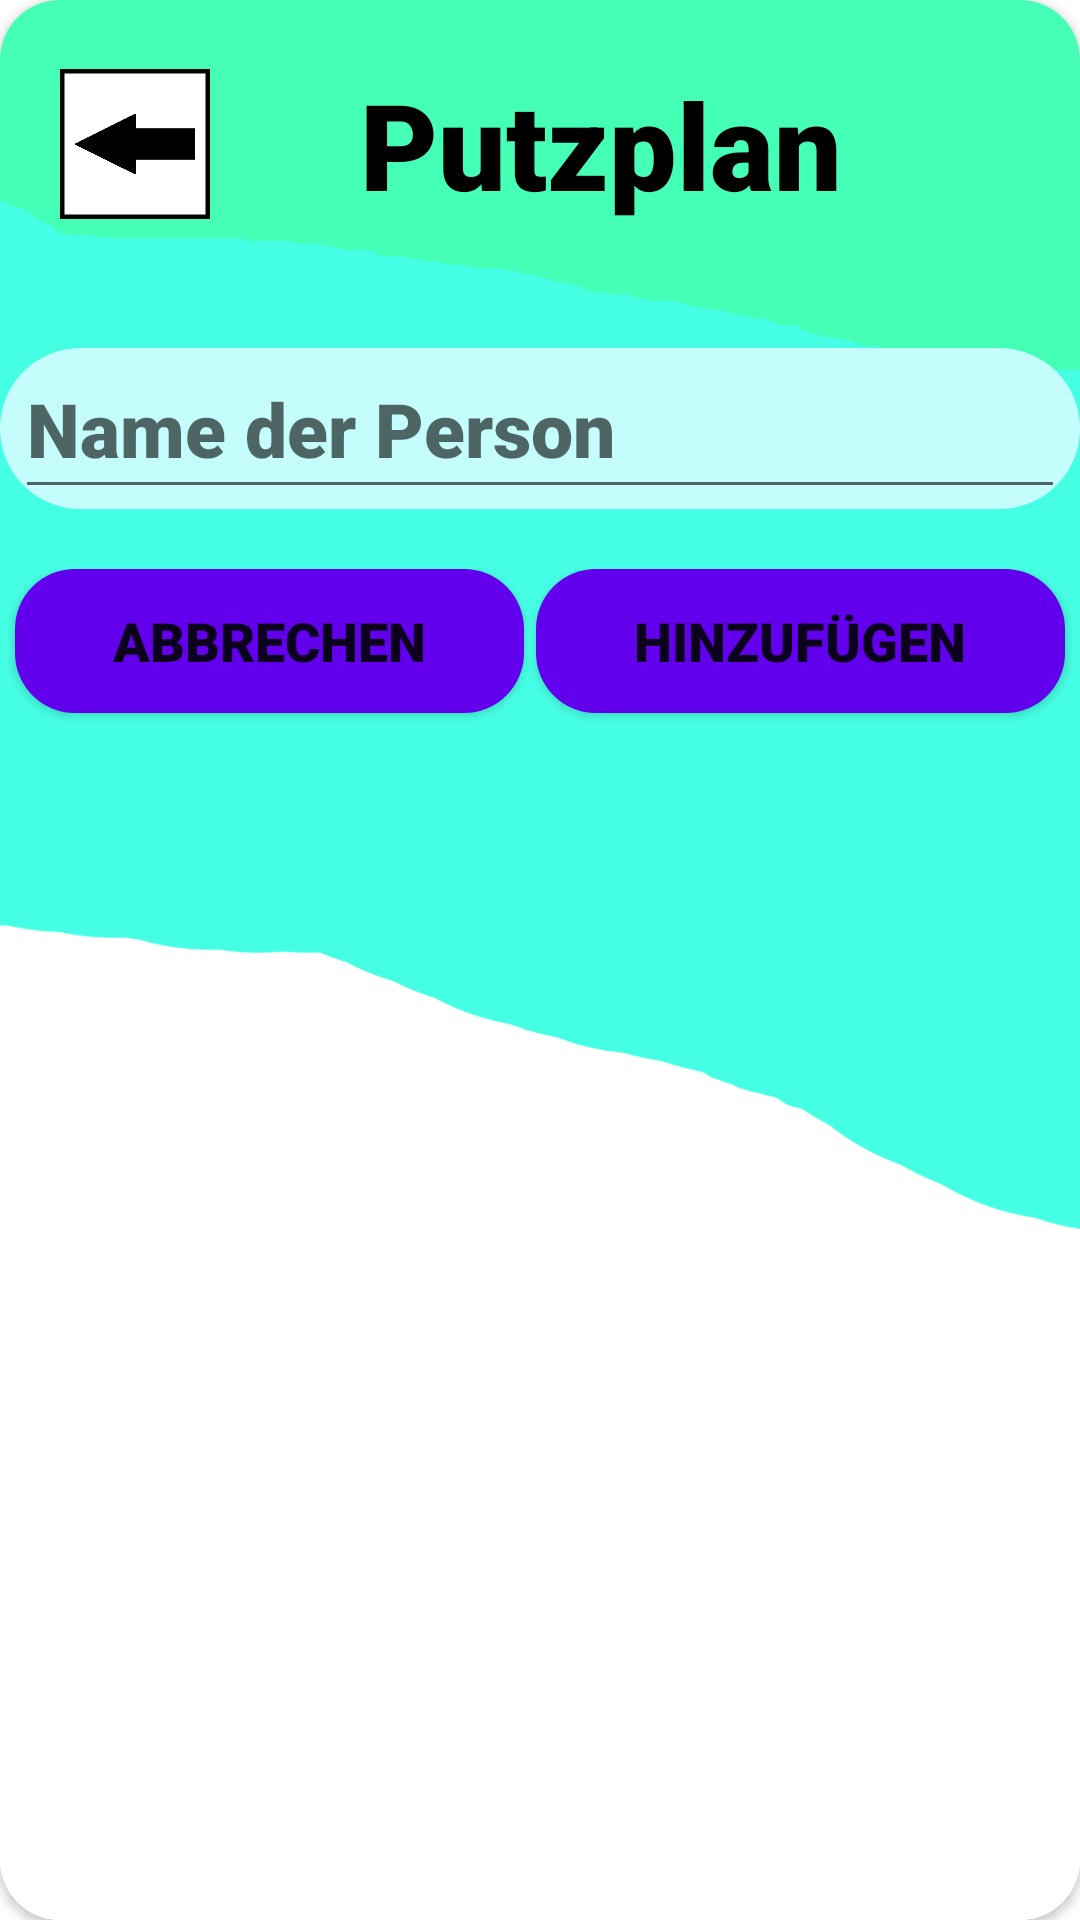

Icon bounding boxes for this 1080w x 1920h phone screenshot, format bbox=[x1, y1, x2, y2]:
zurueck: bbox=[60, 69, 210, 219]
